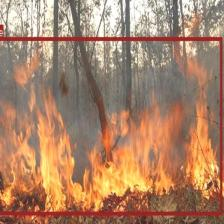fire: (0, 36, 222, 214)
